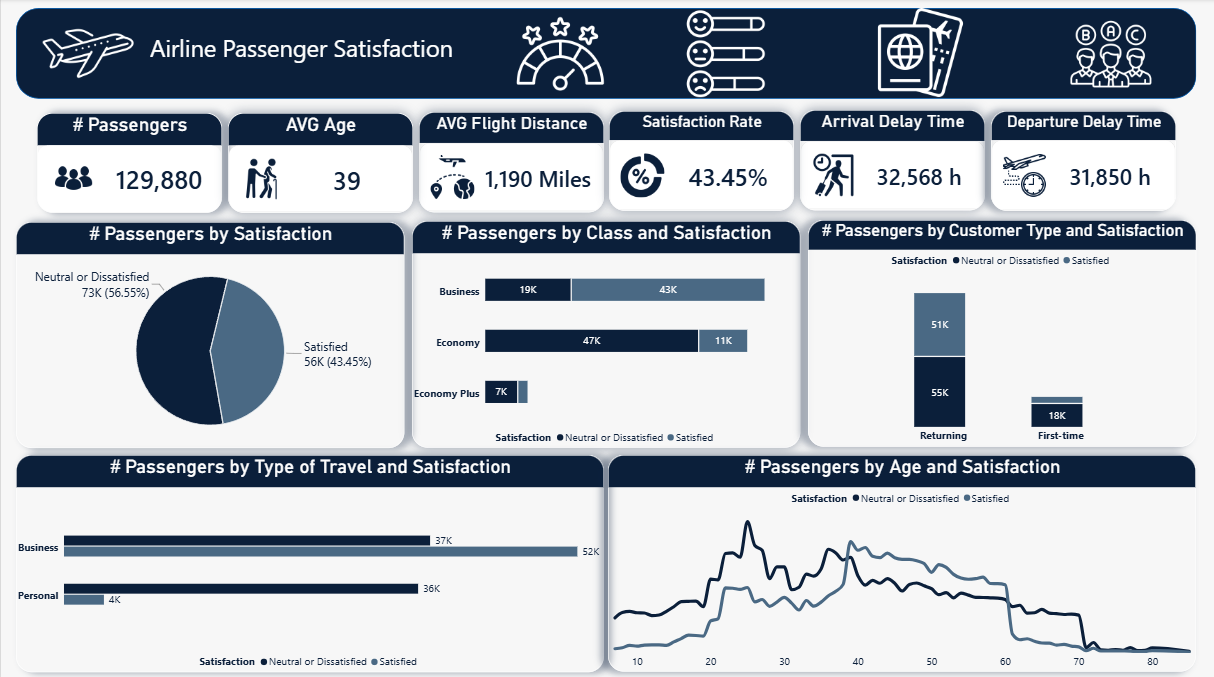

The page's visual inventory and layout, read from the dashboard file:
{"tool":"powerbi","page":{"name":"Satisfication Level","canvas":[1920,1080],"ordinal":0},"visuals":[{"type":"shape","box":[23.6,14.5,1869.1,143.6],"z":0},{"type":"cardVisual","title":"# Passengers","fields":{"Data":["Dax Measures.# Passengers"]},"box":[56.4,180,293,158.2],"z":0,"group":"g2"},{"type":"clusteredBarChart","title":"Average of Departure and Arrival Delay  by Satisfaction","fields":{"Category":["airline_passenger_satisfaction.Satisfaction"],"Y":["Avg(airline_passenger_satisfaction.Departure Delay)","Avg(airline_passenger_satisfaction.Arrival Delay)"]},"box":[23.4,353.5,615,358],"z":0,"group":"g1"},{"type":"cardVisual","title":"AVG Flight Distance","fields":{"Data":["Dax Measures.AVG Flight Distance"]},"box":[660.6,179.3,293,158.8],"z":1000,"group":"g2"},{"type":"clusteredColumnChart","title":"Average of Ease of Online Booking and Online Boarding by Satisfaction","fields":{"Category":["airline_passenger_satisfaction.Satisfaction"],"Y":["Avg(airline_passenger_satisfaction.Ease of Online Booking)","Avg(airline_passenger_satisfaction.Online Boarding)"]},"box":[651,353.7,615.2,357.2],"z":1000,"group":"g1"},{"type":"cardVisual","title":"AVG Age","fields":{"Data":["Dax Measures.Avg Age"]},"box":[358.5,180,293,158.2],"z":2000,"group":"g2"},{"type":"barChart","title":"# Passengers By Seat Comfort and Satisfaction","fields":{"Category":["airline_passenger_satisfaction.Seat Comfort"],"Series":["airline_passenger_satisfaction.Satisfaction"],"Y":["Dax Measures.# Passengers"]},"box":[1279.9,353.7,615,358],"z":2000,"group":"g1"},{"type":"cardVisual","title":"Arrival Delay Time","fields":{"Data":["Dax Measures.Total Arrival Delay Time"]},"box":[1264.7,176,293.2,158.8],"z":3000,"group":"g2"},{"type":"columnChart","fields":{"Category":["airline_passenger_satisfaction.In-flight Wifi Service"],"Series":["airline_passenger_satisfaction.Satisfaction"],"Y":["Dax Measures.# Passengers"]},"box":[1275.4,722.7,615.2,343],"z":3000,"group":"g1"},{"type":"cardVisual","title":"Departure Delay Time","fields":{"Data":["Dax Measures.Total Departure Delay Time"]},"box":[1567.1,177.7,293,158],"z":4000,"group":"g2"},{"type":"pivotTable","fields":{"Rows":["airline_passenger_satisfaction.Class"],"Values":["Avg(airline_passenger_satisfaction.Cleanliness)","Avg(airline_passenger_satisfaction.Food and Drink)","Avg(airline_passenger_satisfaction.In-flight Entertainment)","Avg(airline_passenger_satisfaction.On-board Service)","Avg(airline_passenger_satisfaction.Baggage Handling)"]},"box":[23.9,874.9,1240.3,191.4],"z":4000,"group":"g1"},{"type":"cardVisual","title":"Satisfaction Rate","fields":{"Data":["Dax Measures.Satisfaction Rate"]},"box":[962.7,177.7,293,158],"z":5000,"group":"g2"},{"type":"group","id":"g1","title":"AVG Rate Service","box":[23.4,353.5,1871.5,712.8],"z":5000},{"type":"gauge","fields":{"TargetValue":["Dax Measures.Satisfaction Target Rate"],"Y":["Dax Measures.Satisfaction Rate"]},"box":[56.5,722.3,539.4,137.7],"z":5000,"group":"g1"},{"type":"group","id":"g2","title":"KPI Cards","box":[56.4,176,1803.7,162.2],"z":6000},{"type":"gauge","title":"Average Overall Service","fields":{"Y":["Avg(airline_passenger_satisfaction.In-flight Service)"]},"box":[682.7,722.3,539.4,137.7],"z":6000,"group":"g1"},{"type":"textbox","box":[218.2,14.5,514.4,145.3],"z":9062},{"type":"image","box":[56.4,14.5,161.8,143.6],"z":9125},{"type":"image","box":[1382.9,13.7,146.5,140.6],"z":9250},{"type":"image","box":[1669,15.4,176.1,143.1],"z":9500},{"type":"image","box":[807.5,16.1,156,142.2],"z":10000},{"type":"image","box":[1018.5,16.1,259.2,142.2],"z":11000}]}

Visuals, with their boxes in screenshot pixels (x1, y1, x2, y2), scaled from the page's 1920x1080 canvas onto the 1214x677 screenshot:
shape: pyautogui.locateOnScreen(15, 9, 1197, 99)
"# Passengers" cardVisual: pyautogui.locateOnScreen(36, 113, 221, 212)
"Average of Departure and Arrival Delay  by Satisfaction" clusteredBarChart: pyautogui.locateOnScreen(15, 222, 404, 446)
"AVG Flight Distance" cardVisual: pyautogui.locateOnScreen(418, 112, 603, 212)
"Average of Ease of Online Booking and Online Boarding by Satisfaction" clusteredColumnChart: pyautogui.locateOnScreen(412, 222, 801, 446)
"AVG Age" cardVisual: pyautogui.locateOnScreen(227, 113, 412, 212)
"# Passengers By Seat Comfort and Satisfaction" barChart: pyautogui.locateOnScreen(809, 222, 1198, 446)
"Arrival Delay Time" cardVisual: pyautogui.locateOnScreen(800, 110, 985, 210)
columnChart - airline_passenger_satisfaction.In-flight Wifi Service x airline_passenger_satisfaction.Satisfaction: pyautogui.locateOnScreen(806, 453, 1195, 668)
"Departure Delay Time" cardVisual: pyautogui.locateOnScreen(991, 111, 1176, 210)
pivotTable - airline_passenger_satisfaction.Class x Avg(airline_passenger_satisfaction.Cleanliness): pyautogui.locateOnScreen(15, 548, 799, 668)
"Satisfaction Rate" cardVisual: pyautogui.locateOnScreen(609, 111, 794, 210)
"AVG Rate Service" group: pyautogui.locateOnScreen(15, 222, 1198, 668)
gauge - Dax Measures.Satisfaction Target Rate x Dax Measures.Satisfaction Rate: pyautogui.locateOnScreen(36, 453, 377, 539)
"KPI Cards" group: pyautogui.locateOnScreen(36, 110, 1176, 212)
"Average Overall Service" gauge: pyautogui.locateOnScreen(432, 453, 773, 539)
textbox: pyautogui.locateOnScreen(138, 9, 463, 100)
image: pyautogui.locateOnScreen(36, 9, 138, 99)
image: pyautogui.locateOnScreen(874, 9, 967, 97)
image: pyautogui.locateOnScreen(1055, 10, 1167, 99)
image: pyautogui.locateOnScreen(511, 10, 609, 99)
image: pyautogui.locateOnScreen(644, 10, 808, 99)
